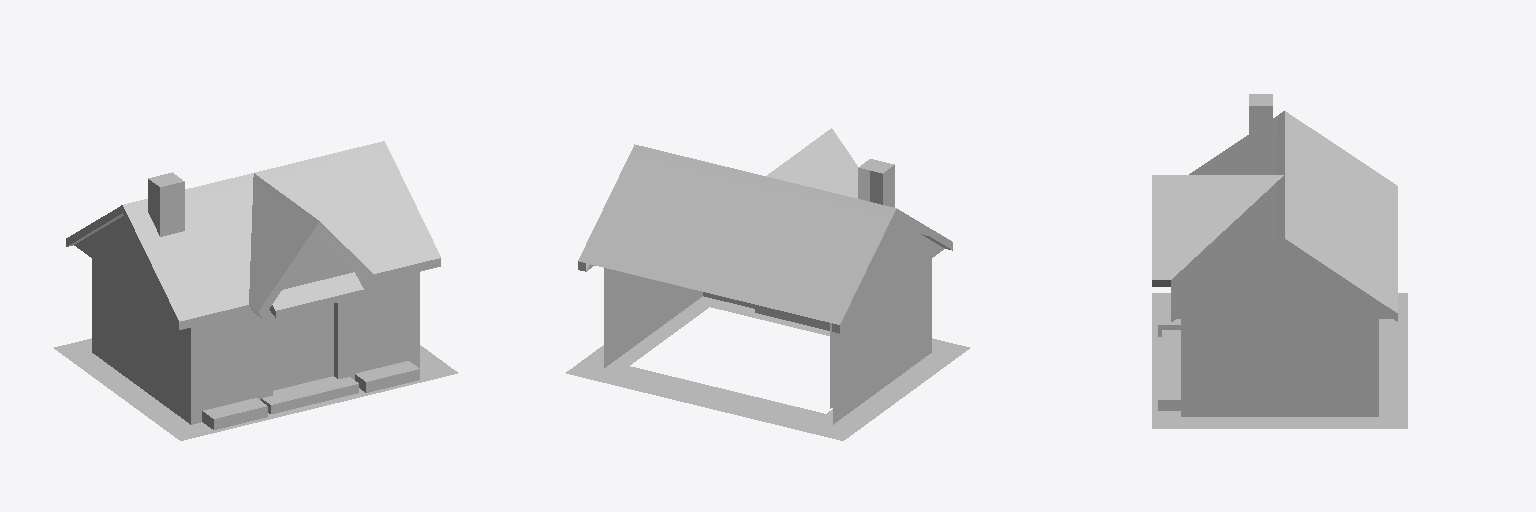
File: Cute House 1.obj
3 renders of one model, left to right at view 1: azimuth 30°, elevation 25°; view 2: azimuth 150°, elevation 25°; view 3: azimuth 270°, elevation 25°, orthographic.
Parts seen in each view (by area): view 1: polygon6.042, polygon9.031, polygon10.026, polygon1.129, polygon2.102, polygon0.132, polygon7.038, polygon5.050, polygon8.037, polygon4.055; view 2: polygon6.042, polygon1.129, polygon9.031, polygon10.026, polygon3.064, polygon5.050, polygon2.102, polygon7.038; view 3: polygon6.042, polygon9.031, polygon1.129, polygon10.026, polygon2.102, polygon5.050, polygon7.038, polygon8.037.
Part boxes in pixels (bbox=[...]): polygon6.042: bbox=[127, 149, 440, 321]; polygon9.031: bbox=[74, 216, 419, 414]; polygon10.026: bbox=[66, 141, 440, 424]; polygon1.129: bbox=[54, 338, 457, 440]; polygon2.102: bbox=[125, 283, 395, 377]; polygon0.132: bbox=[273, 304, 333, 390]; polygon7.038: bbox=[117, 279, 408, 381]; polygon5.050: bbox=[148, 172, 358, 404]; polygon8.037: bbox=[202, 361, 419, 429]; polygon4.055: bbox=[261, 300, 349, 397]; polygon6.042: bbox=[578, 128, 927, 324]; polygon1.129: bbox=[566, 296, 969, 440]; polygon9.031: bbox=[586, 219, 944, 414]; polygon10.026: bbox=[578, 144, 952, 424]; polygon3.064: bbox=[607, 269, 832, 408]; polygon5.050: bbox=[858, 159, 894, 207]; polygon2.102: bbox=[866, 289, 893, 359]; polygon7.038: bbox=[859, 283, 901, 364]; polygon6.042: bbox=[1152, 116, 1397, 313]; polygon9.031: bbox=[1177, 247, 1391, 406]; polygon1.129: bbox=[1152, 293, 1407, 428]; polygon10.026: bbox=[1152, 111, 1397, 416]; polygon2.102: bbox=[1256, 325, 1312, 375]; polygon5.050: bbox=[1162, 94, 1272, 372]; polygon7.038: bbox=[1241, 325, 1327, 375]; polygon8.037: bbox=[1158, 299, 1180, 410].
Size of the model in its own units: 17 by 12.5 by 13.5.